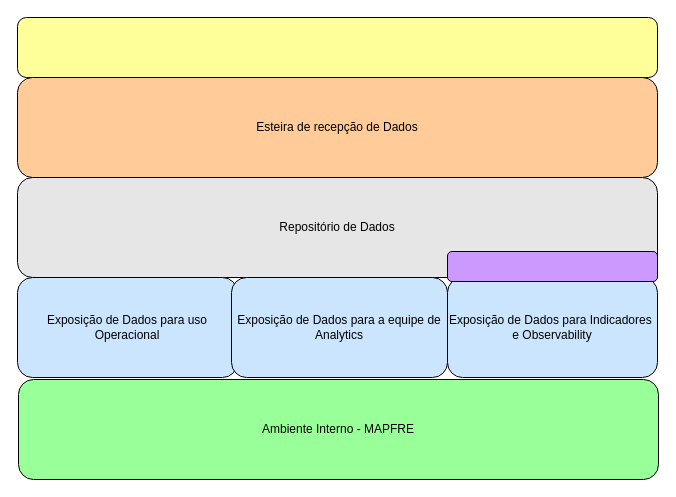
The diagram is 676 pixels wide and 497 high, and some of its shapes have lost their labels. The shapes that lost their labels are listed below. From the top down, each one's centre as x and y in pixels, then its label:
At (337,47): "Dados Externos - MAPFRE".
At (552,266): "Data Visualization".
